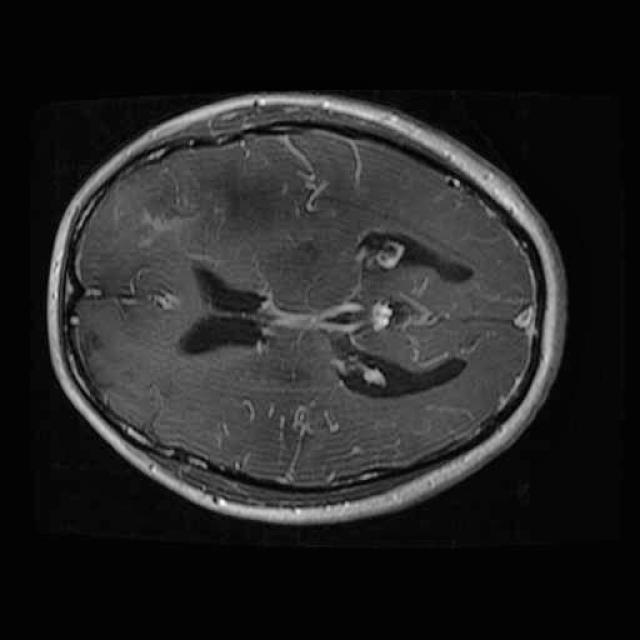Tumor: (119, 148, 246, 268)
